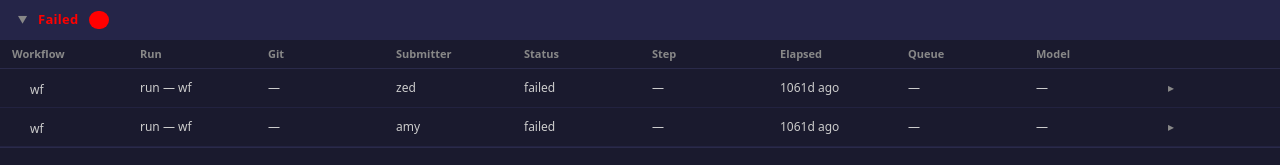
Test: QueueSection — submitter sortability by auth mode › submitter header IS sortable in org mode
What coordinates should you click on to do the following:
click the column heading "Submitter"
I would click on:
 (448, 54)
Its box is [384,40,512,68].
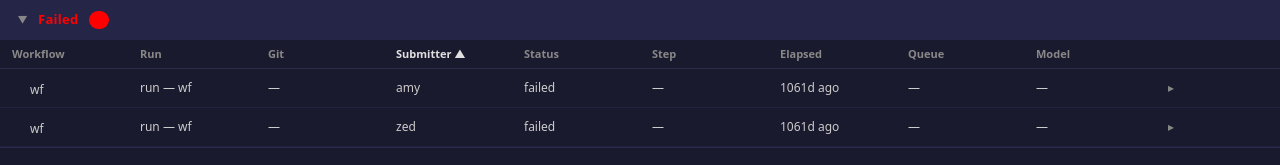
Expected: the column heading "Submitter ▲" has attribute aria-sort="ascending", [384,40,512,68]
